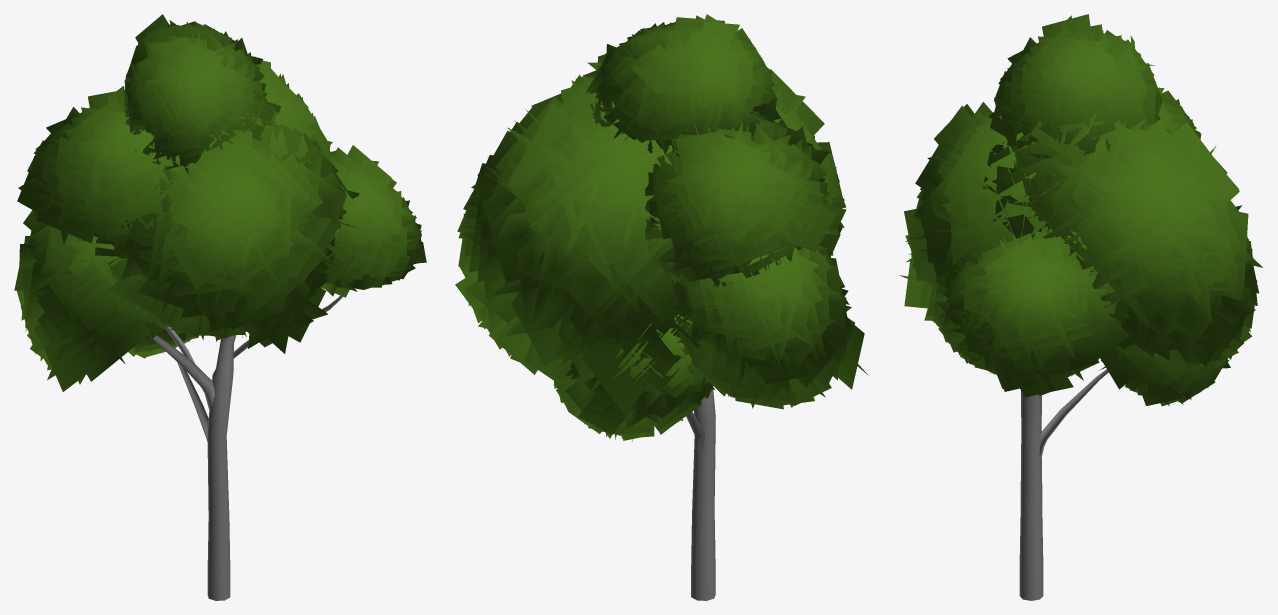
File: SM_tree_ruins_02.fbx
The picture shows the model from 3 angles, left to right: view 1: azimuth 30°, elevation 25°; view 2: azimuth 150°, elevation 25°; view 3: azimuth 270°, elevation 25°; orthographic projection. The views are drawn at different scales.
Visible parts, largest first — view 1: Line012; view 2: Line012; view 3: Line012.
Boxes of the visible parts, <box> form: Line012: <box>14,14,426,600</box>; Line012: <box>455,14,868,600</box>; Line012: <box>899,14,1262,600</box>.
Bounding box in the file's own units: 154 × 231 × 135.
